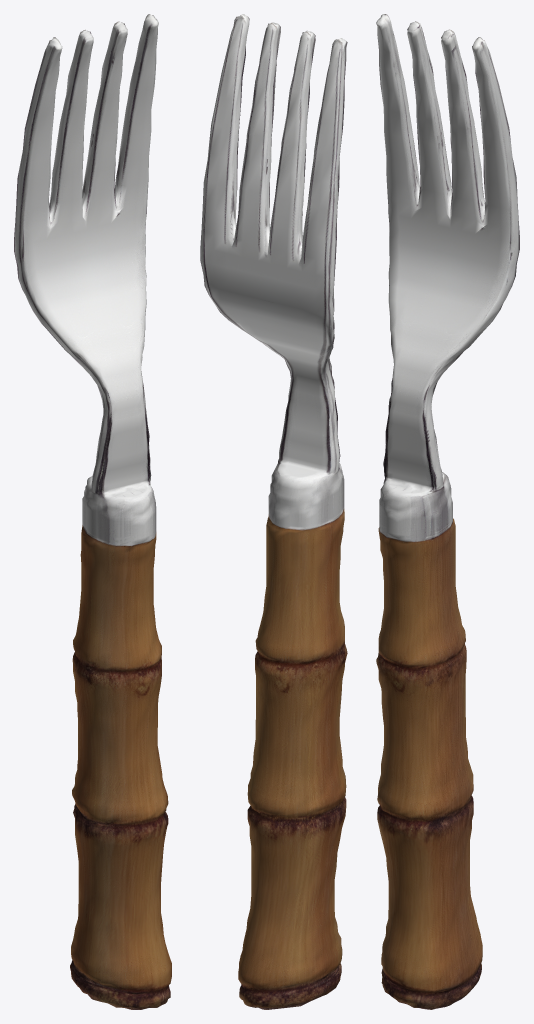
The model's file is Bamboo_Salad_Fork_0225003640_texture.glb.
3 renders of one model, left to right at view 1: azimuth 30°, elevation 25°; view 2: azimuth 150°, elevation 25°; view 3: azimuth 330°, elevation 25°, orthographic. The views are drawn at different scales.
Parts seen in each view (by area): view 1: Mesh_0; view 2: Mesh_0; view 3: Mesh_0.
Part boxes in pixels (<box>): Mesh_0: <box>14,14,171,1009</box>; Mesh_0: <box>200,14,347,1009</box>; Mesh_0: <box>376,14,519,1009</box>.
Bounding box in the file's own units: 0.028 × 0.2032 × 0.0246.
Materials: 1 (1 with a texture image).
